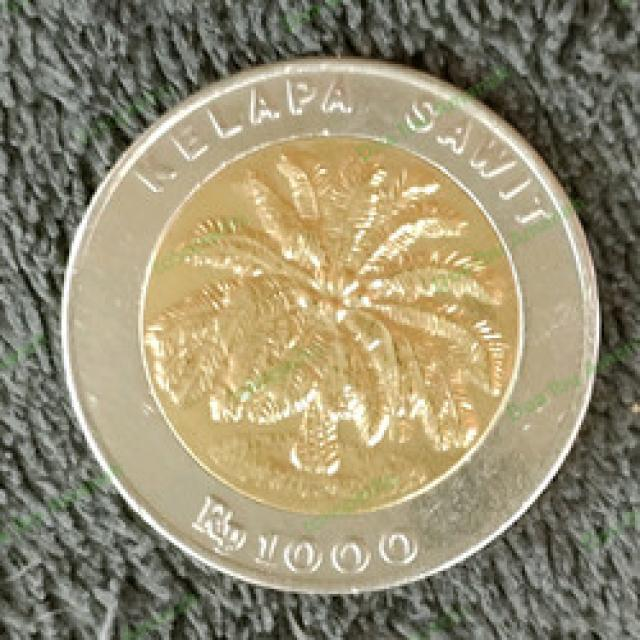1000-sawit: (55, 51, 593, 603)
